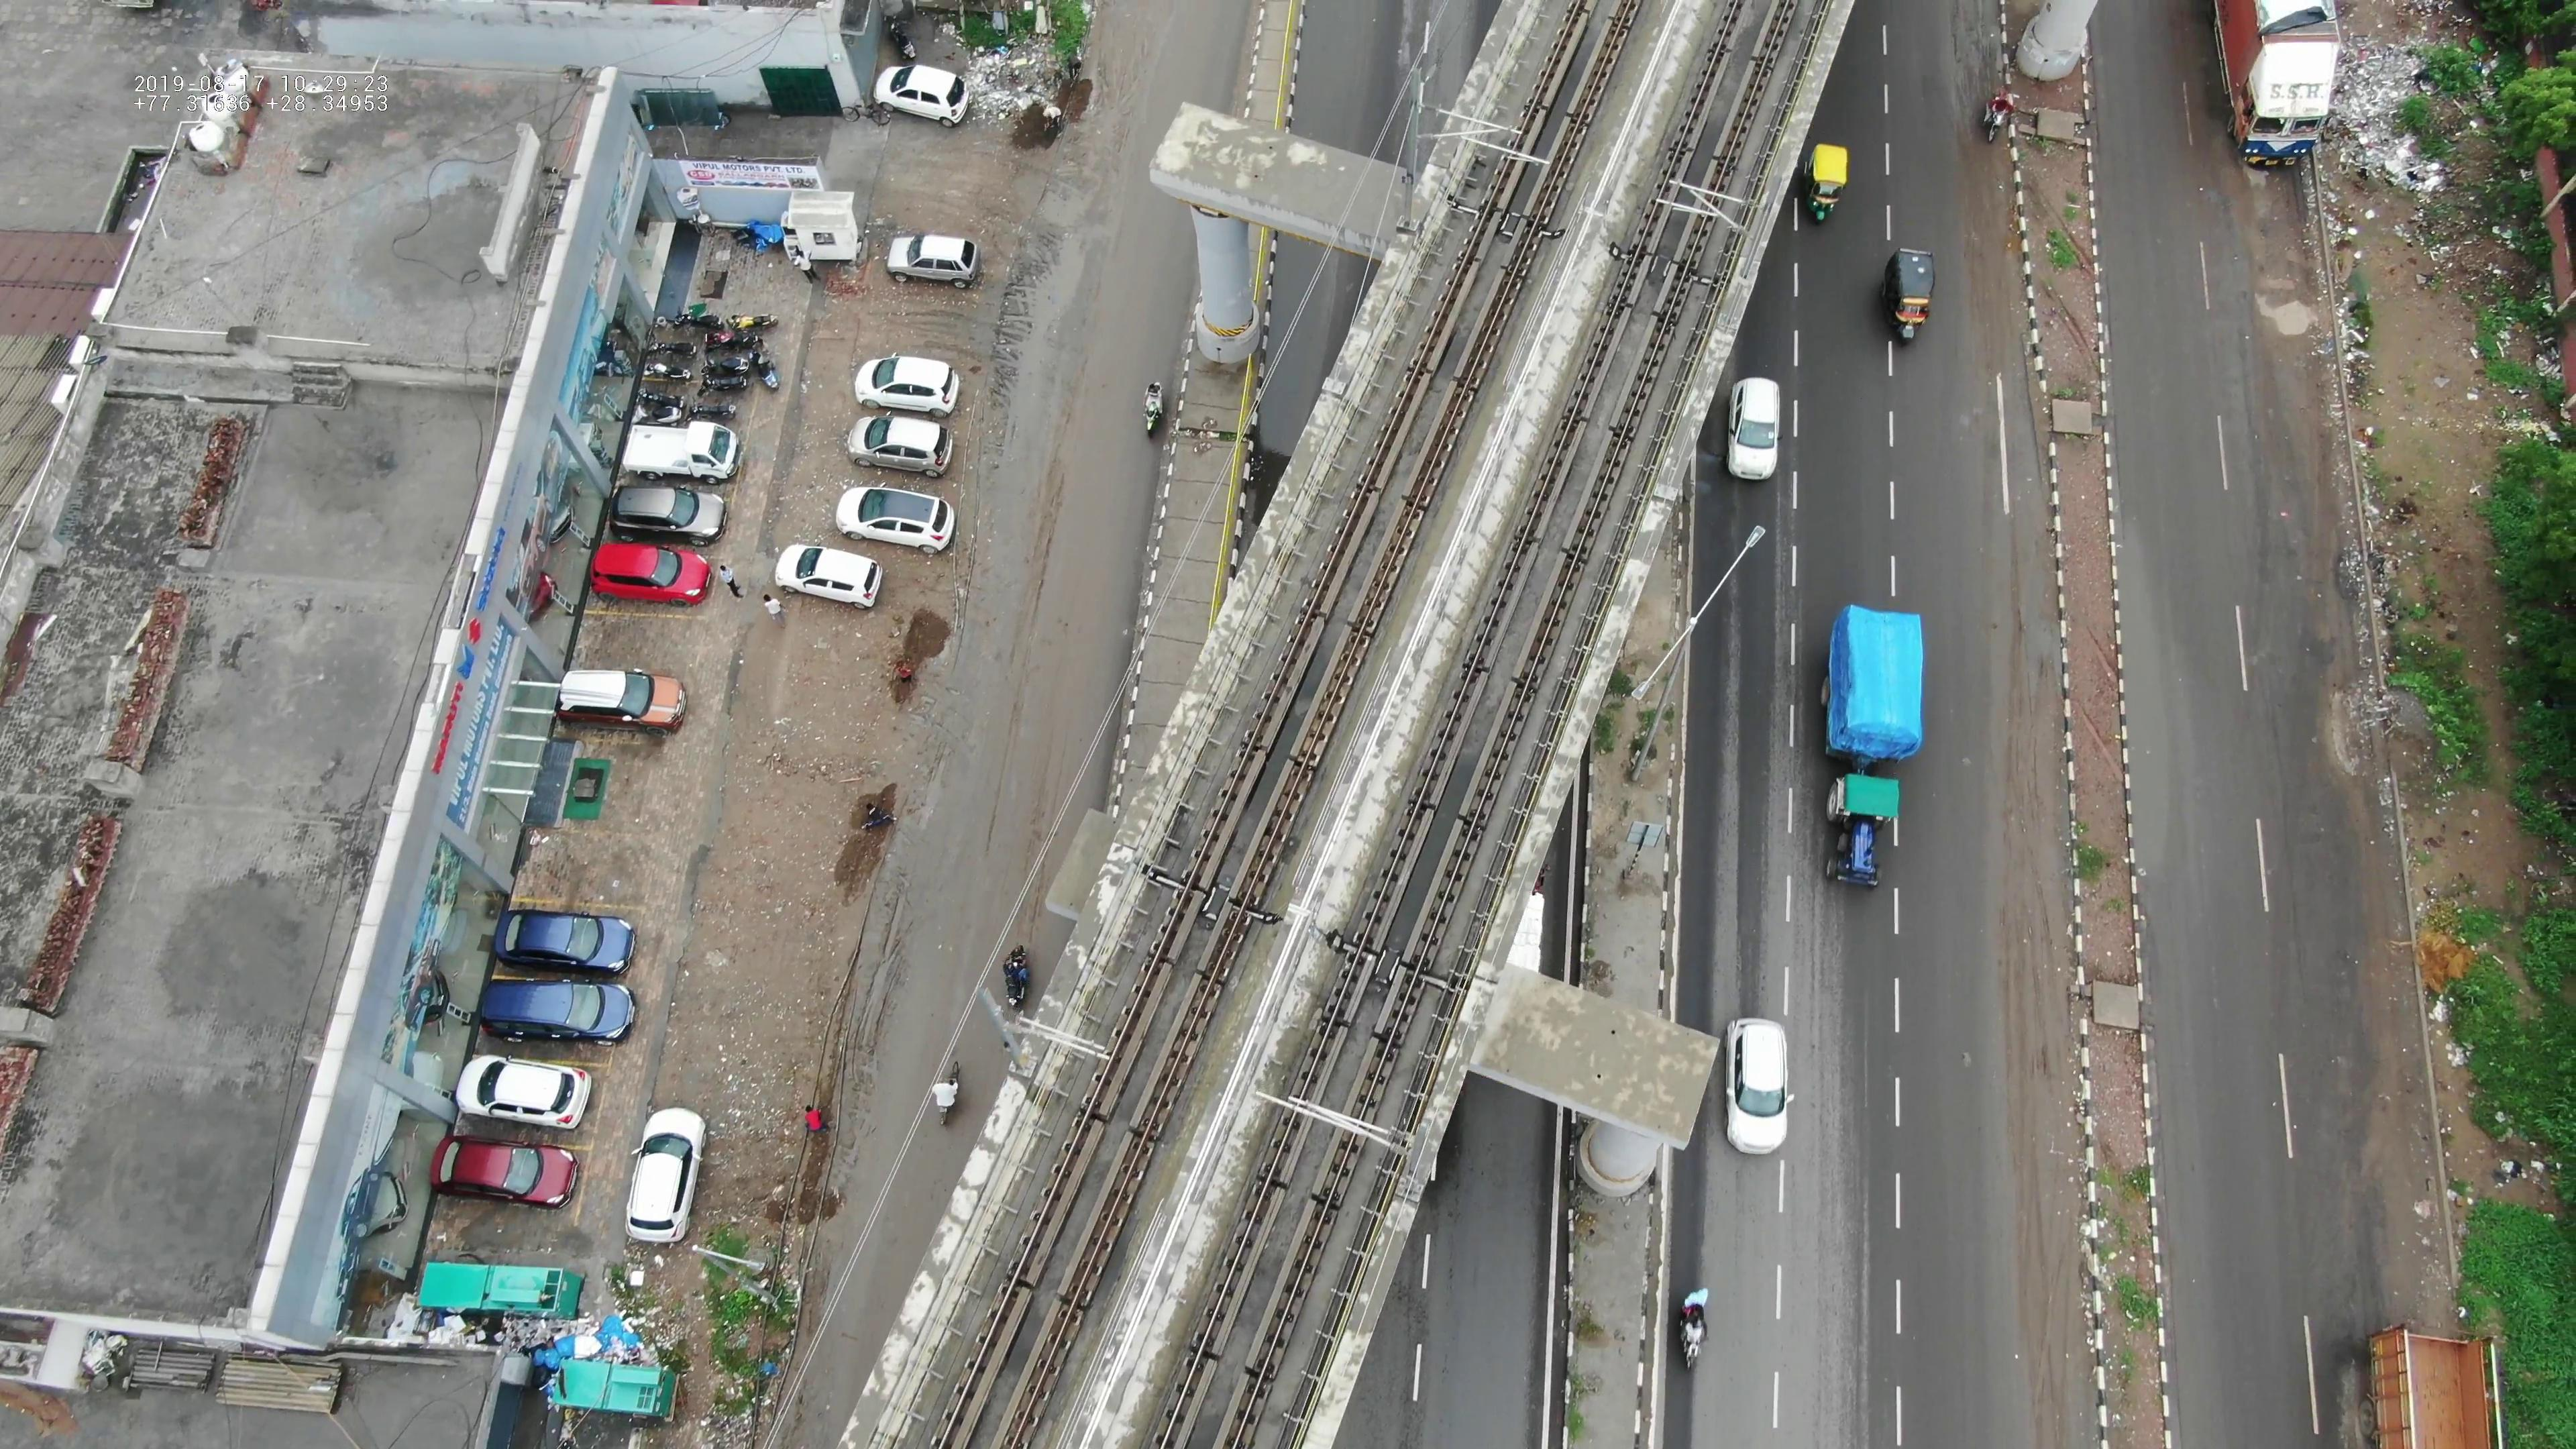Muddy_road: (970, 212, 1088, 600), (1985, 842, 2077, 1146), (1980, 487, 2058, 789), (835, 867, 931, 1104), (2019, 1162, 2097, 1440), (2351, 1088, 2443, 1309), (1960, 119, 2019, 345)
Road_side_garbage: (2351, 51, 2507, 228)
